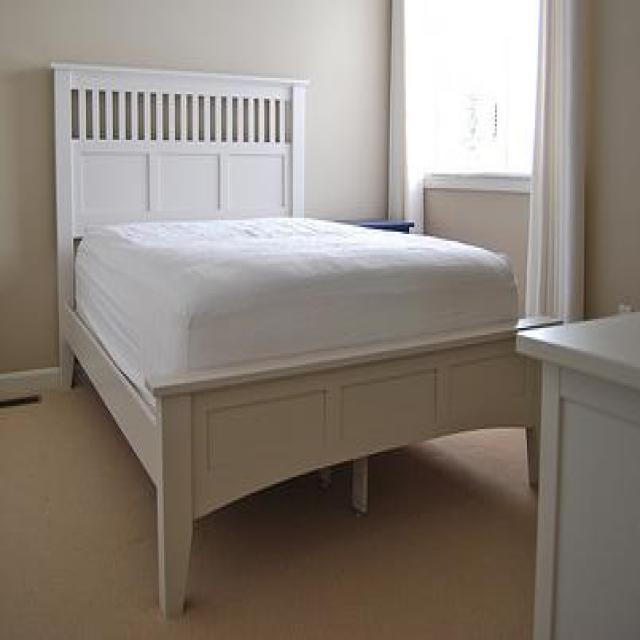bed: (48, 56, 563, 624)
